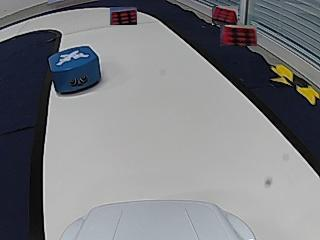spy: (56, 50, 88, 65)
